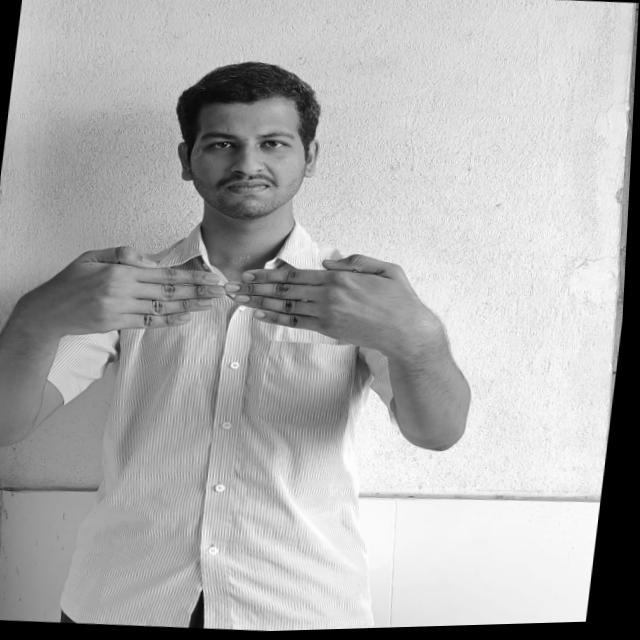Night: (17, 232, 432, 362)
